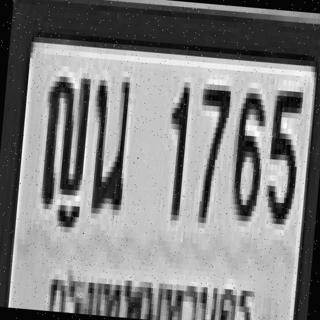A13: (36, 67, 90, 209)
A25: (85, 69, 130, 210)
N01: (162, 78, 188, 212)
N05: (263, 84, 302, 219)
N06: (226, 86, 266, 216)
N07: (190, 78, 230, 218)
